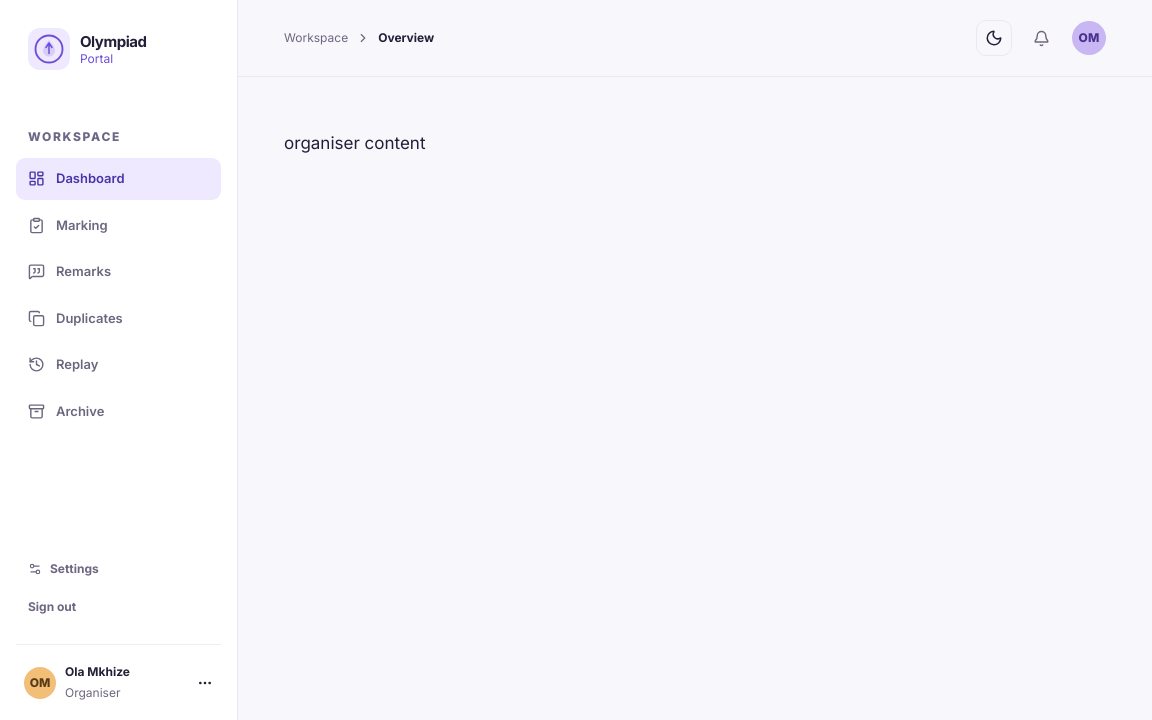
it: OrganiserShell delete account › closes the dialog when cancel is clicked
This screenshot has width=1152, height=720.
Click the button "Settings" at (118, 569), box [16,550,221,588]
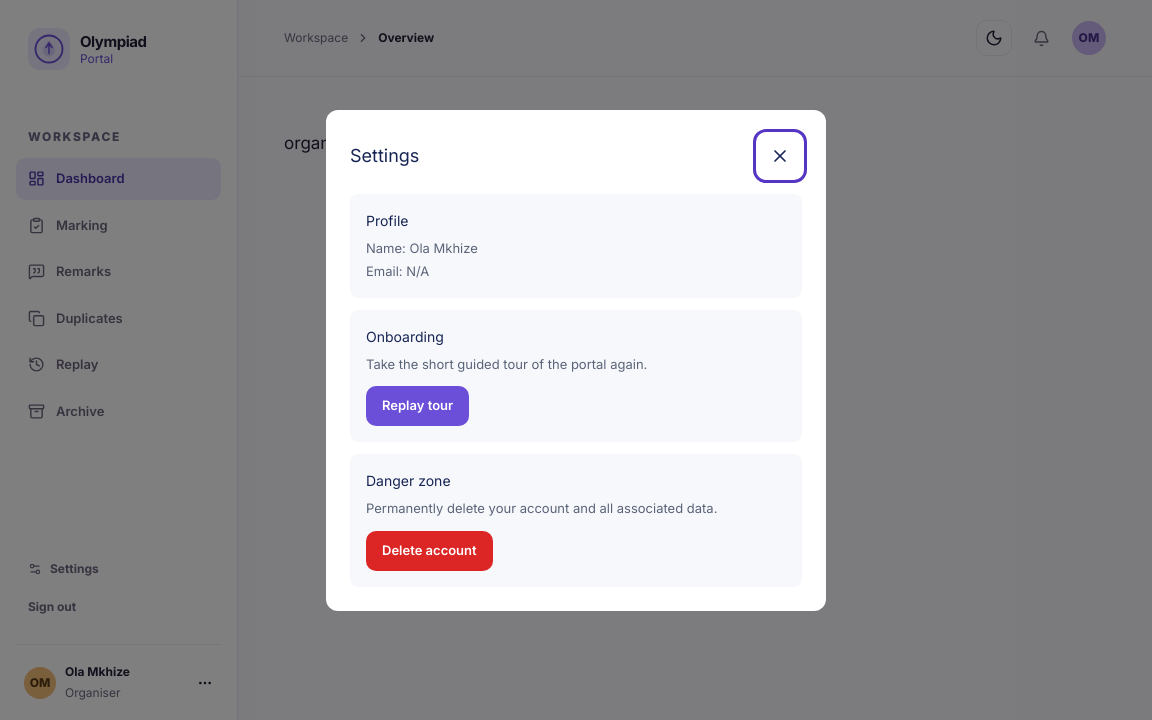
expect the dialog "Settings" is shown: met, box [326,110,826,610]
Click the button "Delete account" at (429, 550), box [366,530,493,570]
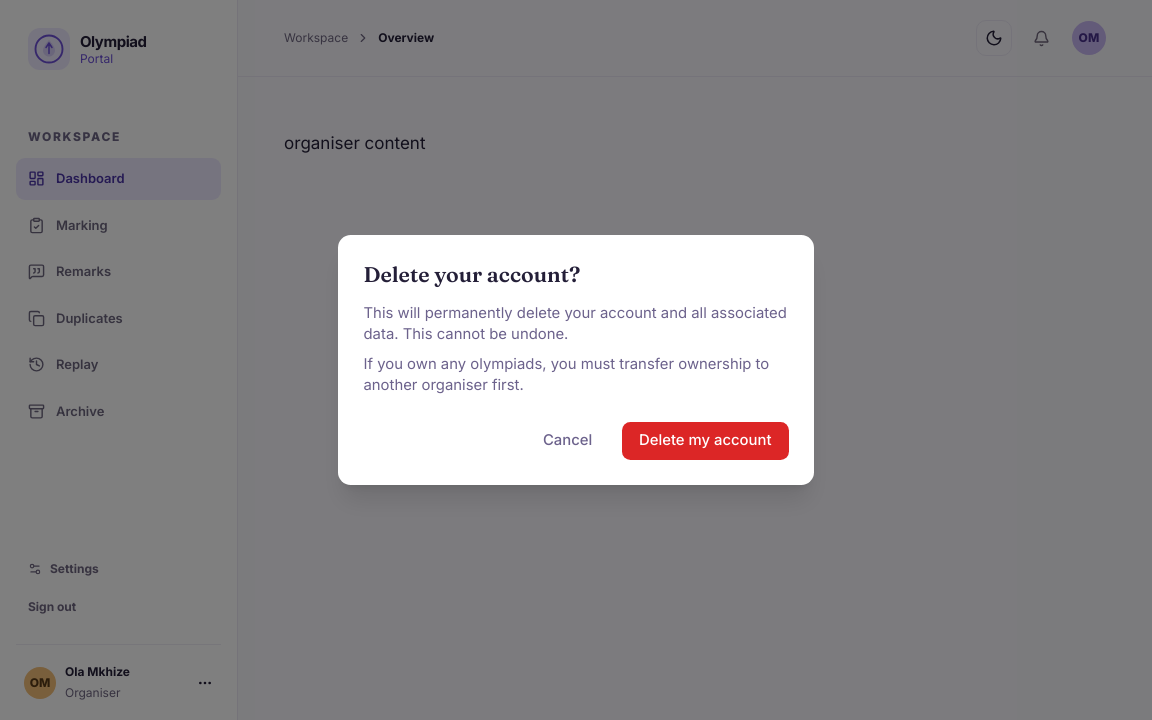
expect the heading "Delete your account?" is shown: met, box [364,261,580,287]
Click the button "Cancel" at (568, 441), box [526,422,609,460]
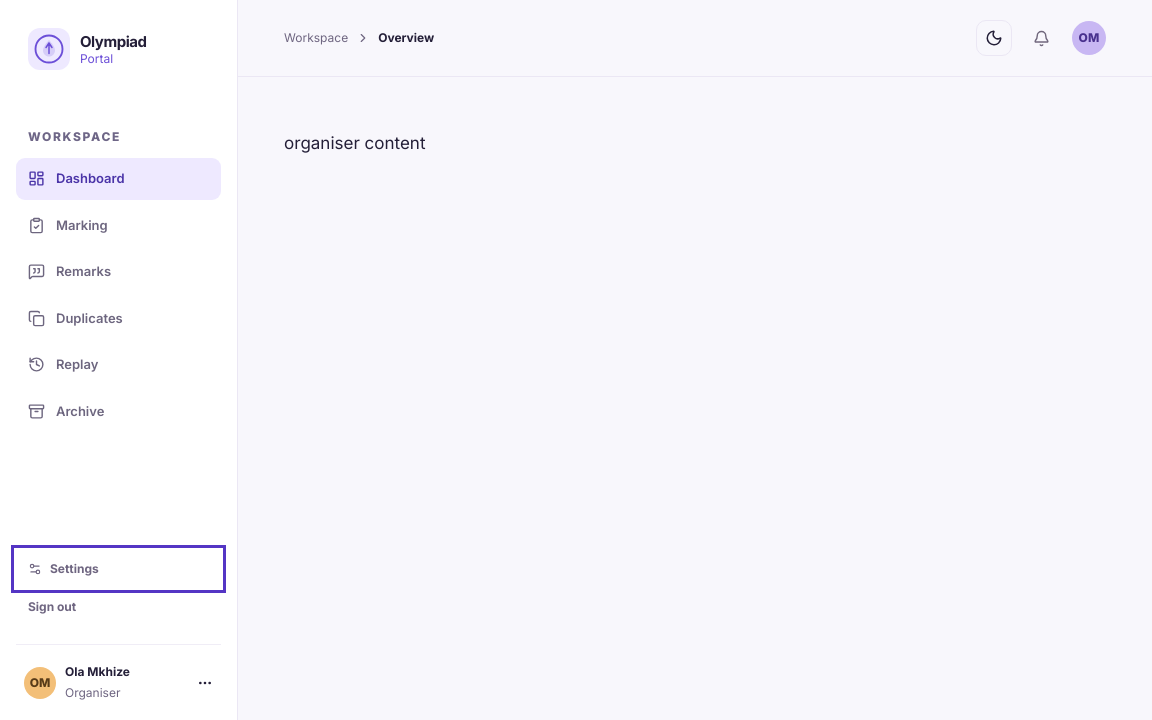
expect the heading "Delete your account?" is gone: met
